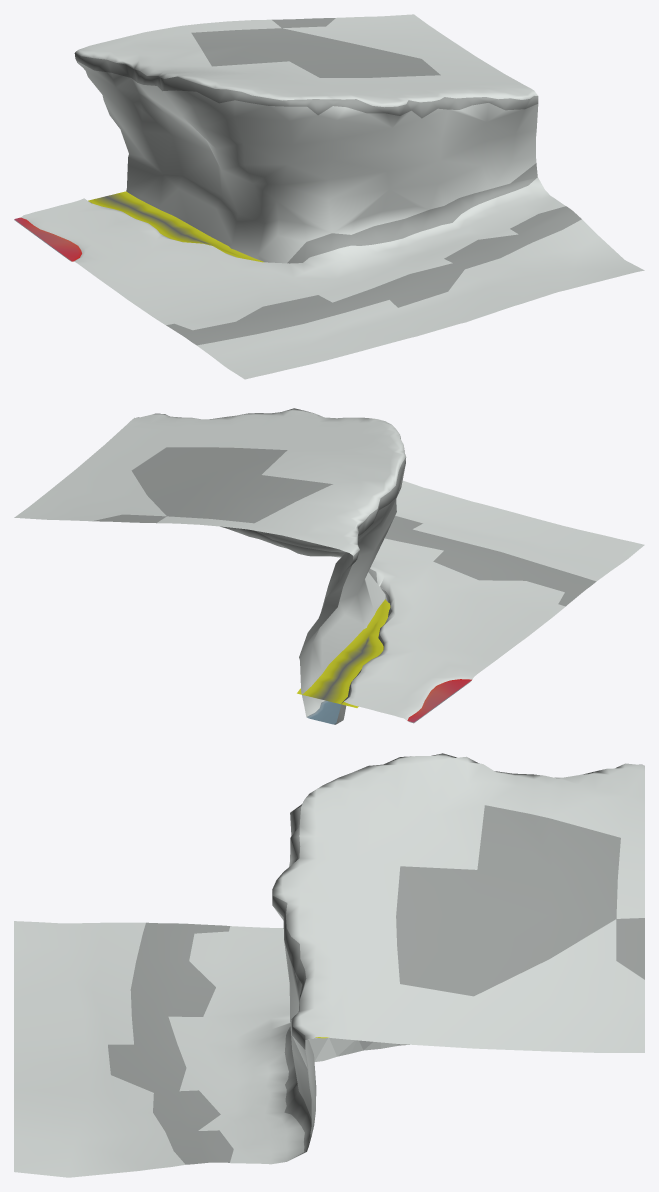
3 renders of one model, top to bottom at view 1: azimuth 30°, elevation 25°; view 2: azimuth 150°, elevation 25°; view 3: azimuth 270°, elevation 25°, orthographic. The views are drawn at different scales.
Visible parts, largest first — view 1: G:\FFXIV-MapTools\exports\r2f1\bg\ex1\01_roc_r2\fld\r2f1\bgp (×7); view 2: G:\FFXIV-MapTools\exports\r2f1\bg\ex1\01_roc_r2\fld\r2f1\bgp (×8); view 3: G:\FFXIV-MapTools\exports\r2f1\bg\ex1\01_roc_r2\fld\r2f1\bgp (×5).
Boxes of the visible parts, left/top/right/bottom form: G:\FFXIV-MapTools\exports\r2f1\bg\ex1\01_roc_r2\fld\r2f1\bgp (×7): left=14, top=14, right=644, bottom=379; G:\FFXIV-MapTools\exports\r2f1\bg\ex1\01_roc_r2\fld\r2f1\bgp (×8): left=14, top=408, right=644, bottom=724; G:\FFXIV-MapTools\exports\r2f1\bg\ex1\01_roc_r2\fld\r2f1\bgp (×5): left=14, top=753, right=644, bottom=1177.
Bounding box in the file's own units: 128 × 61 × 128.
